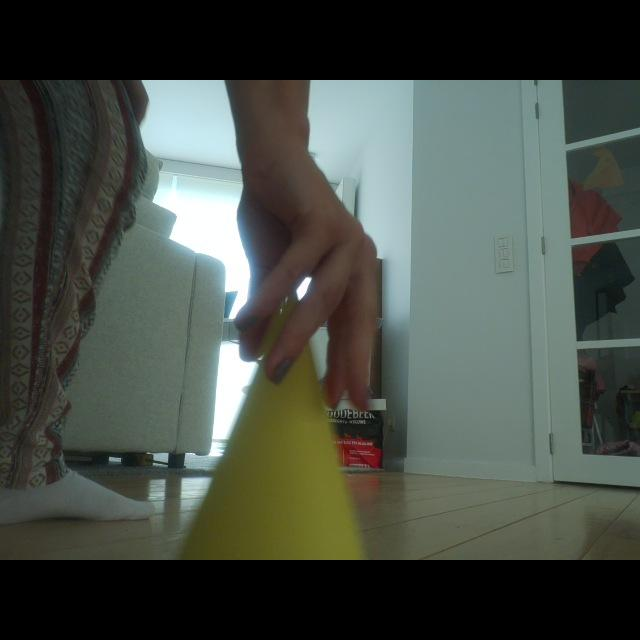bolya: (181, 346, 364, 559)
